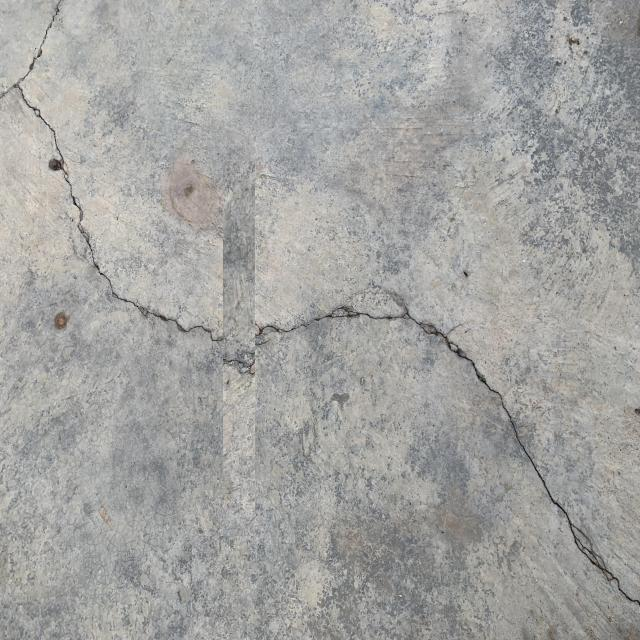diagonal crack: (256, 289, 640, 640)
horizontal crack: (220, 342, 262, 392)
multi-branched crack: (0, 0, 224, 387)
